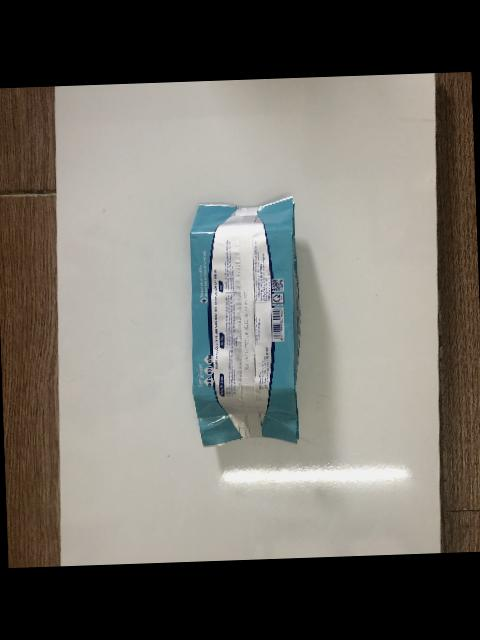Let-green_alcohol_wipes: (188, 196, 299, 447)
